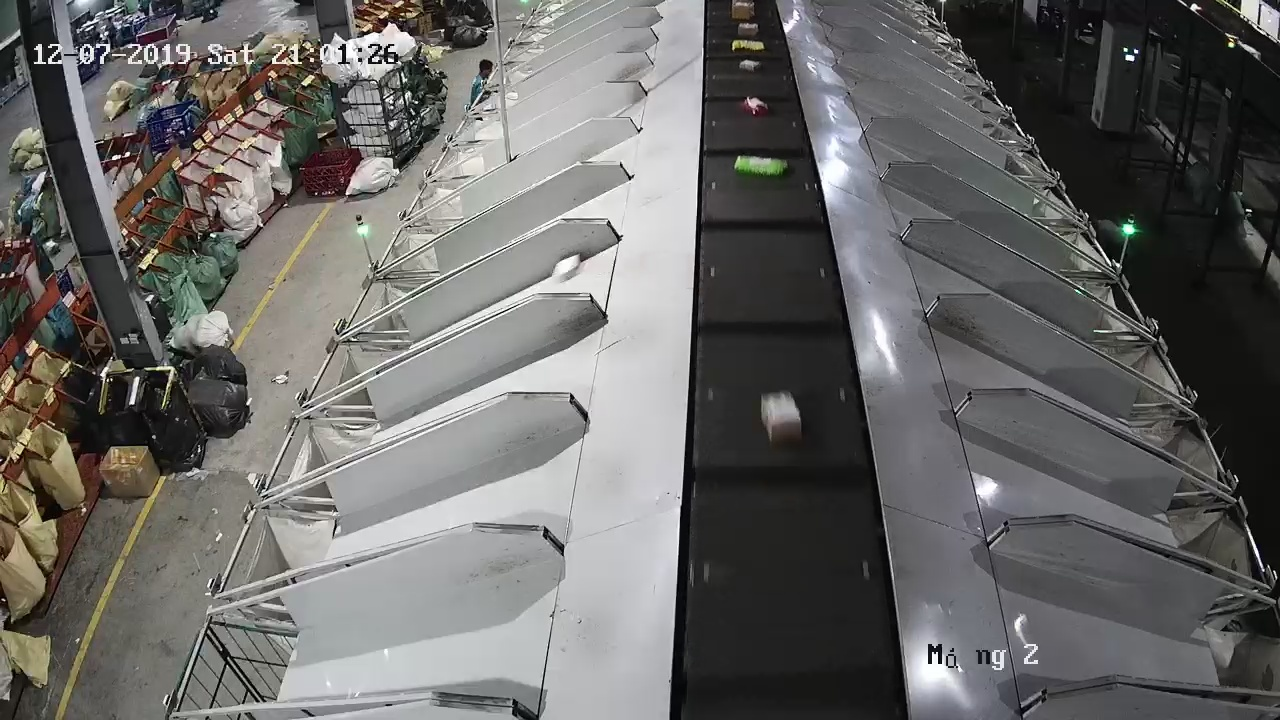parcel: (549, 251, 581, 282)
